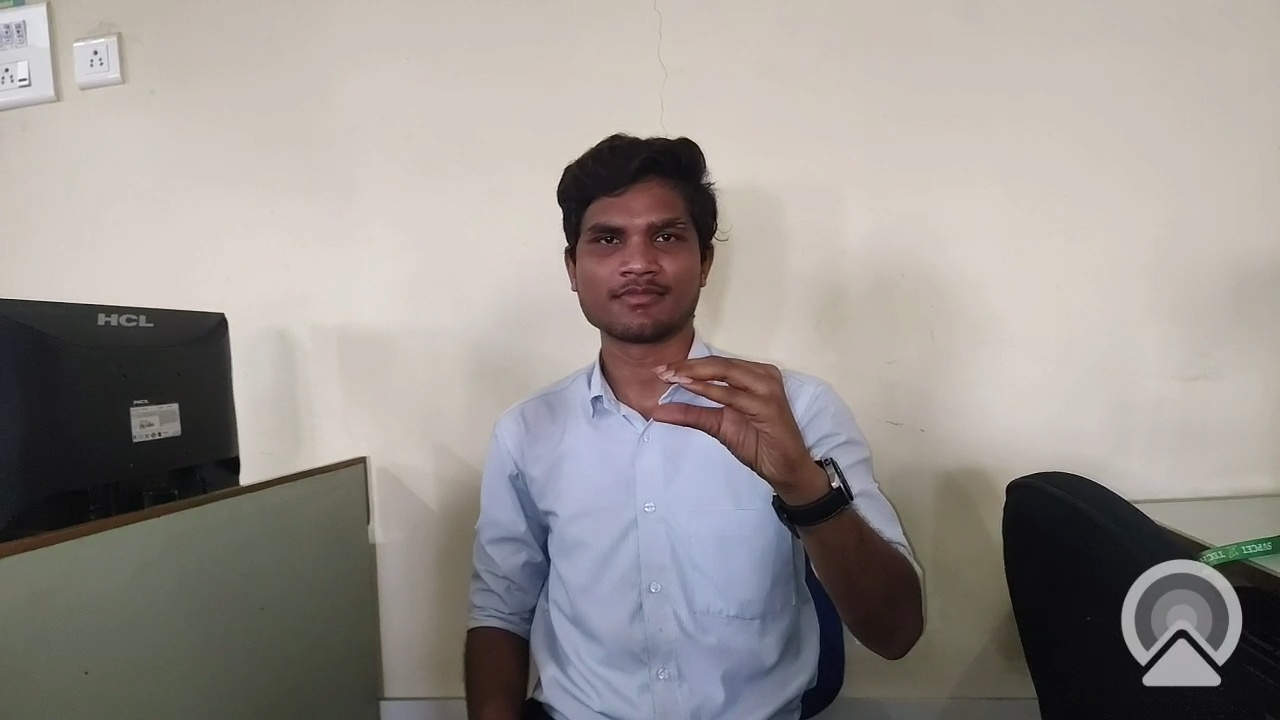No: (638, 334, 853, 503)
